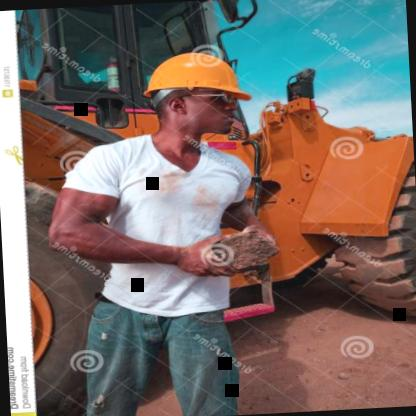helmet: (128, 36, 258, 160)
